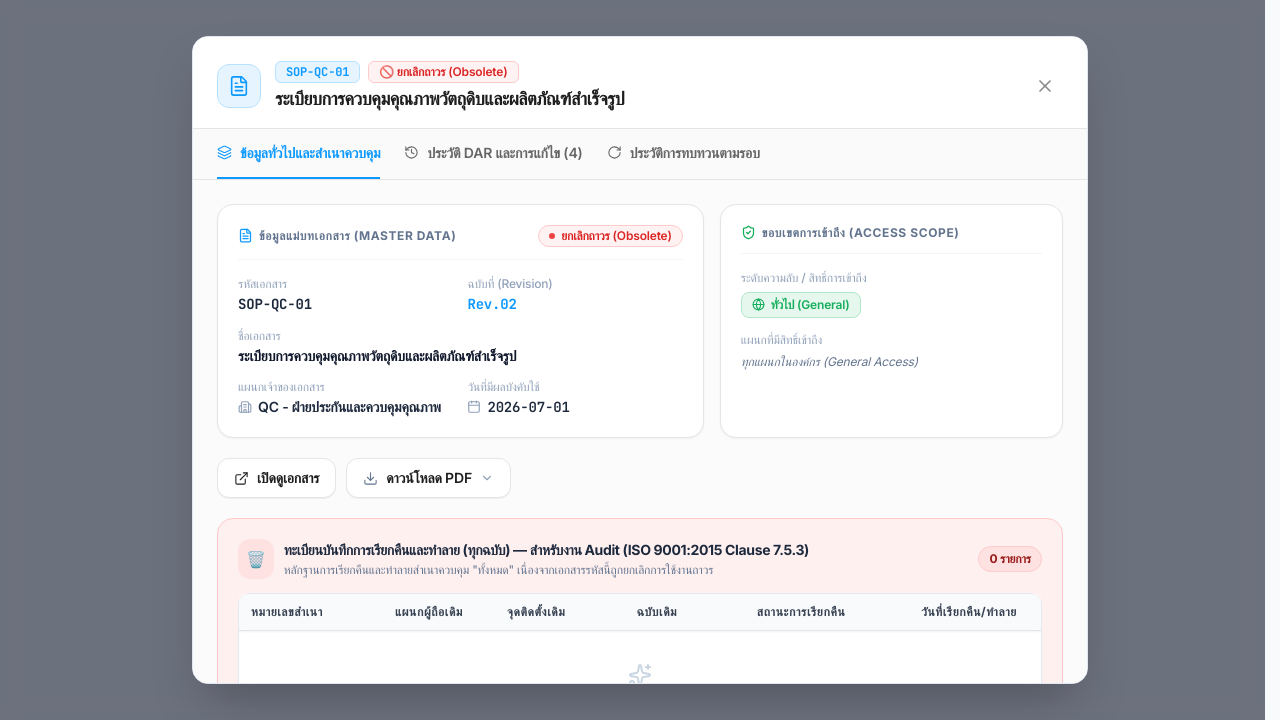
Test case: Fix Full Document Lifecycle Traceability for OBSOLETE Documents (Retain All Superseded Historical Revisions) › 2. DocumentDetailModal displays all revisions and correct count for Obsolete document SOP-QC-01
The image size is (1280, 720).
Expected: the text "ประวัติ DAR และการแก้ไข (4)" is shown, [428,143,583,163]
Click the button "ประวัติ DAR และการแก้ไข (4)". click: (494, 154)
box: [404,129,583,179]
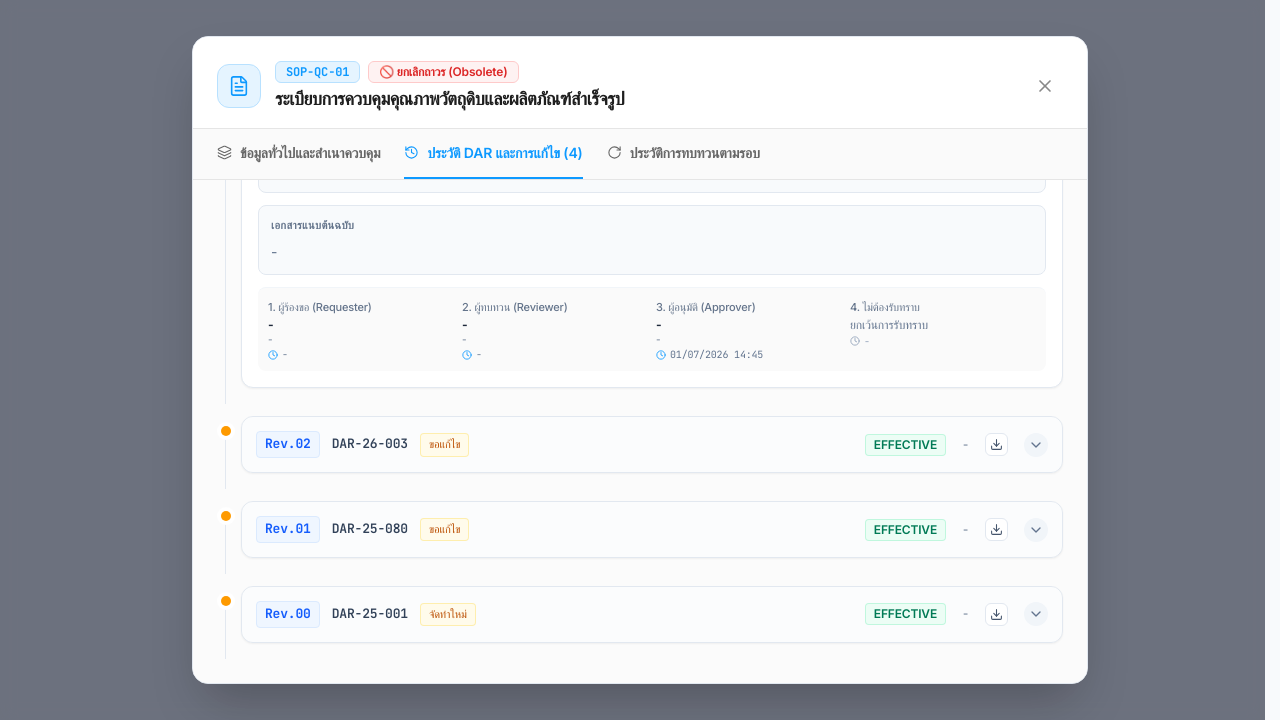
Expected: the text "DAR-26-003" is shown, [332,434,408,455]
Expected: the text "DAR-25-080" is shown, [332,519,408,540]
Expected: the text "DAR-25-001" is shown, [332,604,408,625]
